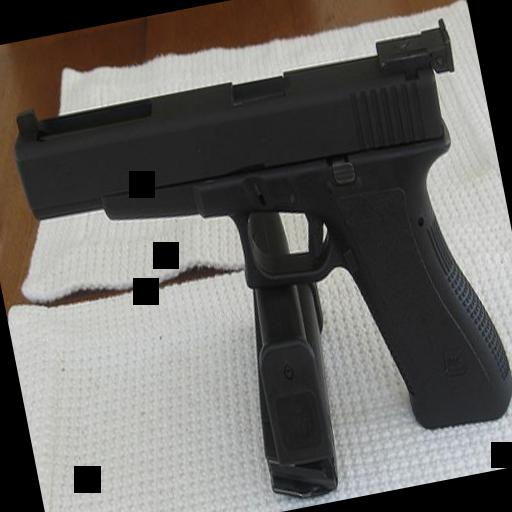Handgun: (3, 17, 512, 502)
